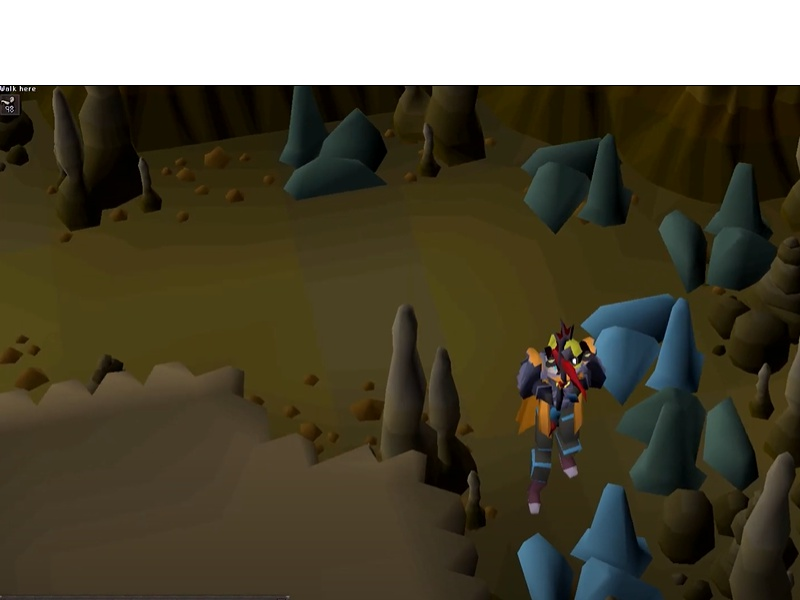adamant: (609, 382, 765, 497), (653, 156, 781, 294), (272, 87, 390, 207), (517, 130, 637, 234)
rune: (512, 479, 657, 600), (576, 291, 708, 399)
